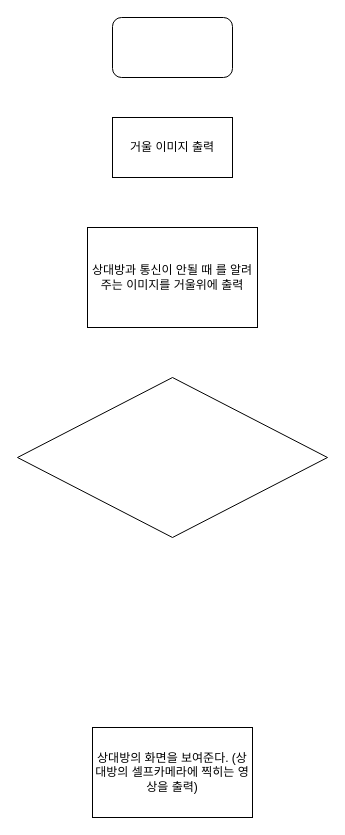
Image size: 345x835. Some labels were removed from this diagram. Here are the shapes that lost their labels. From the top down, the box of each, then its label:
(112, 16, 232, 78): 사용자가 등록된 상태에서 어플 시작
(16, 376, 328, 538): 상대방의 기계가 지금 통신이 가능한 상태인가? (통신확인용 신호를 주고 받는다.)
